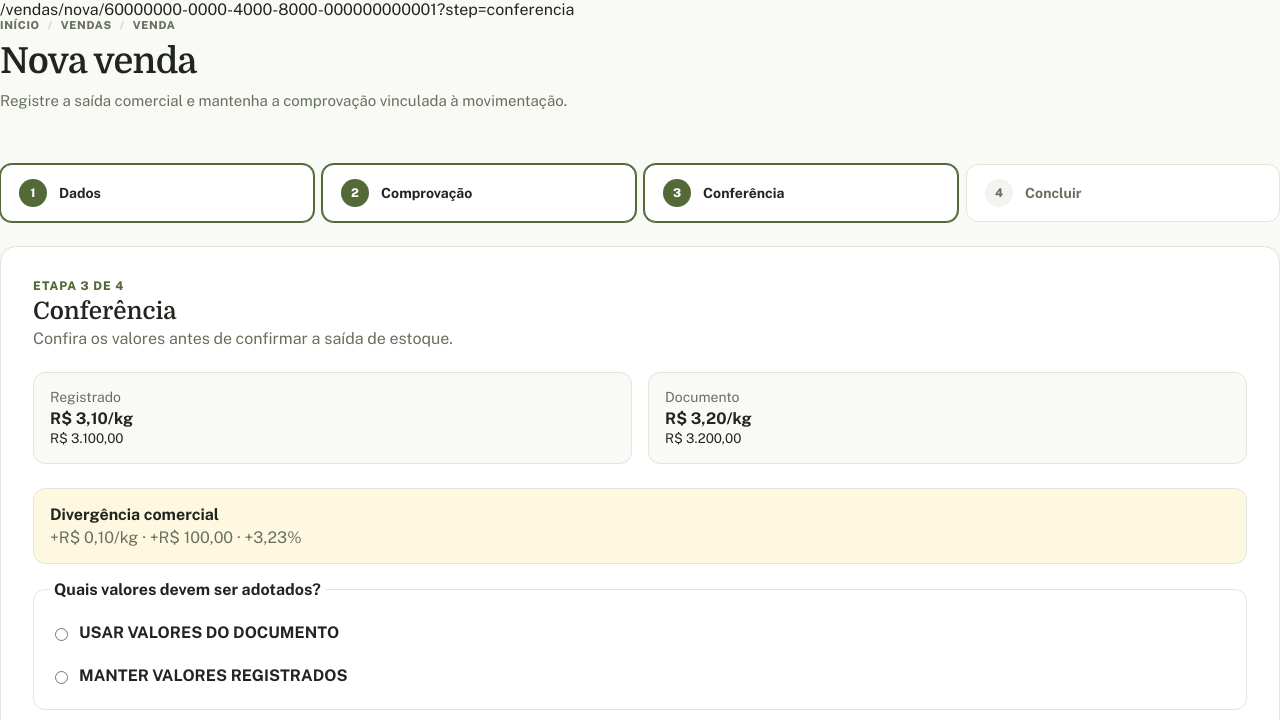
Test case: SaleFlowPage › renders canonical completion 3200 - 1000 = 2200 after keep_registered
This screenshot has width=1280, height=720.
Step 1. Click the radio button labelled "MANTER VALORES REGISTRADOS" → (62, 677), box x1=55 y1=671 x2=68 y2=684
(page scrolled)
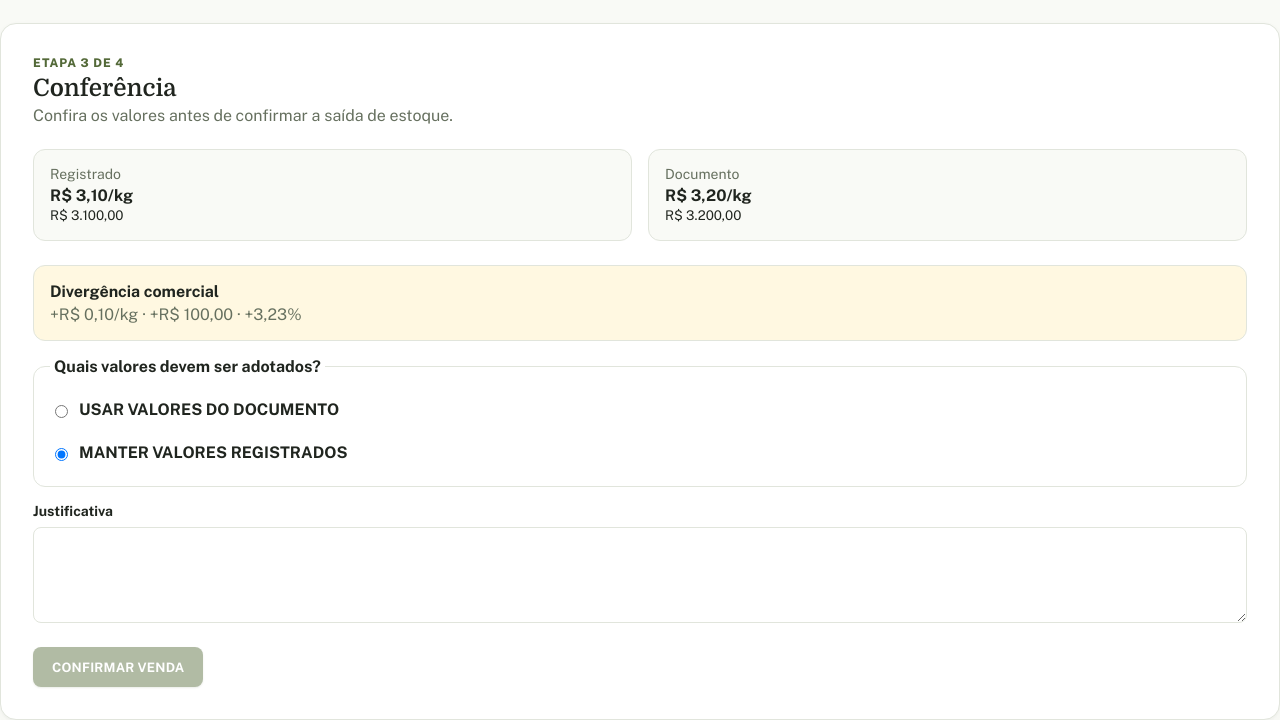
Step 2. Type "Preço negociado confirmado." into the text box labelled "Justificativa" → (640, 575), box x1=33 y1=527 x2=1247 y2=623
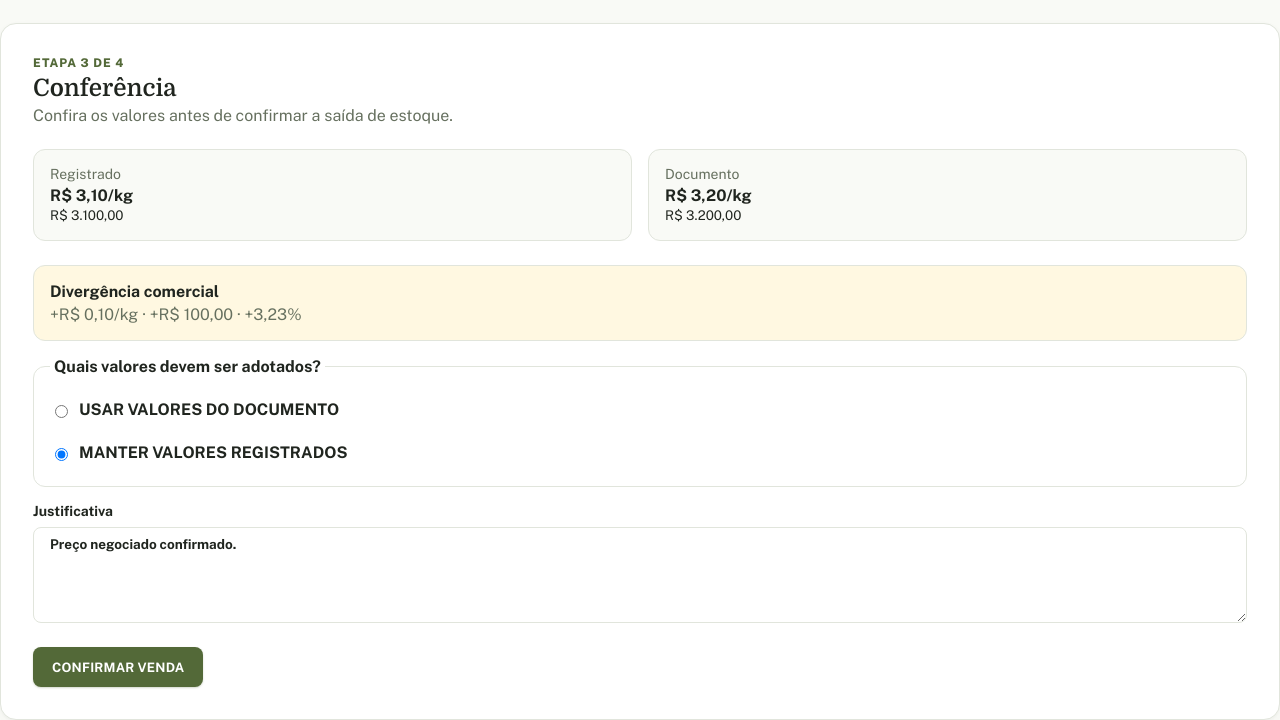
Step 3. Click the button "CONFIRMAR VENDA" → (118, 667), box x1=33 y1=647 x2=204 y2=687
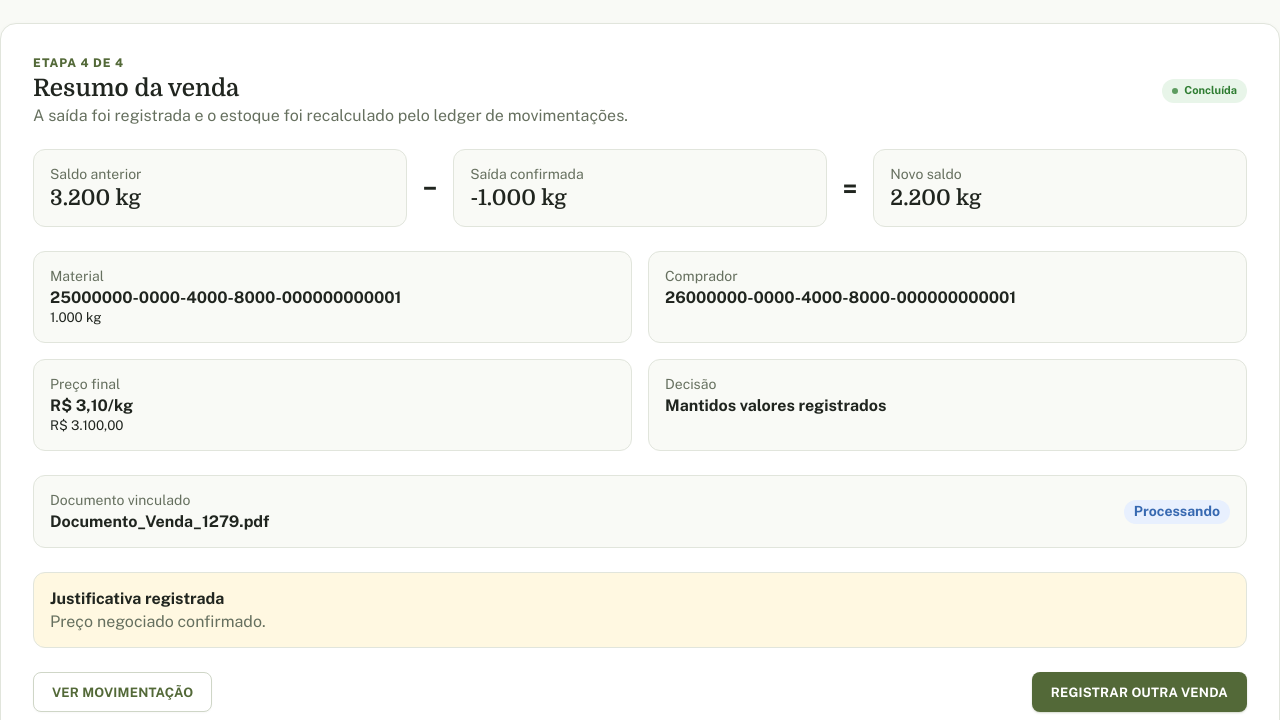
Check: the text "3.200 kg" is shown, box x1=50 y1=186 x2=141 y2=210
Check: the text "-1.000 kg" is shown, box x1=470 y1=186 x2=567 y2=210
Check: the text "2.200 kg" is shown, box x1=890 y1=186 x2=981 y2=210
